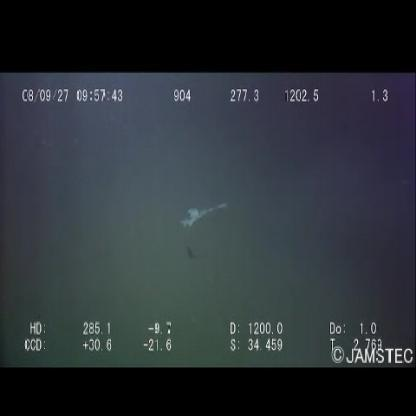Rác: (182, 202, 228, 229)
